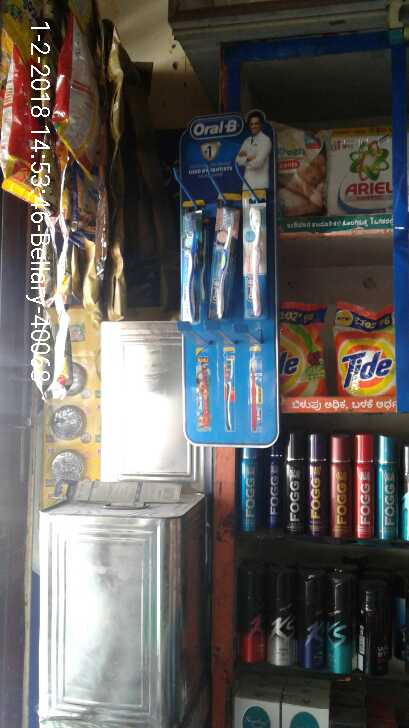home: (326, 291, 397, 400)
oralb: (243, 194, 272, 318), (210, 203, 236, 323)
pharmacy: (181, 209, 201, 332)
